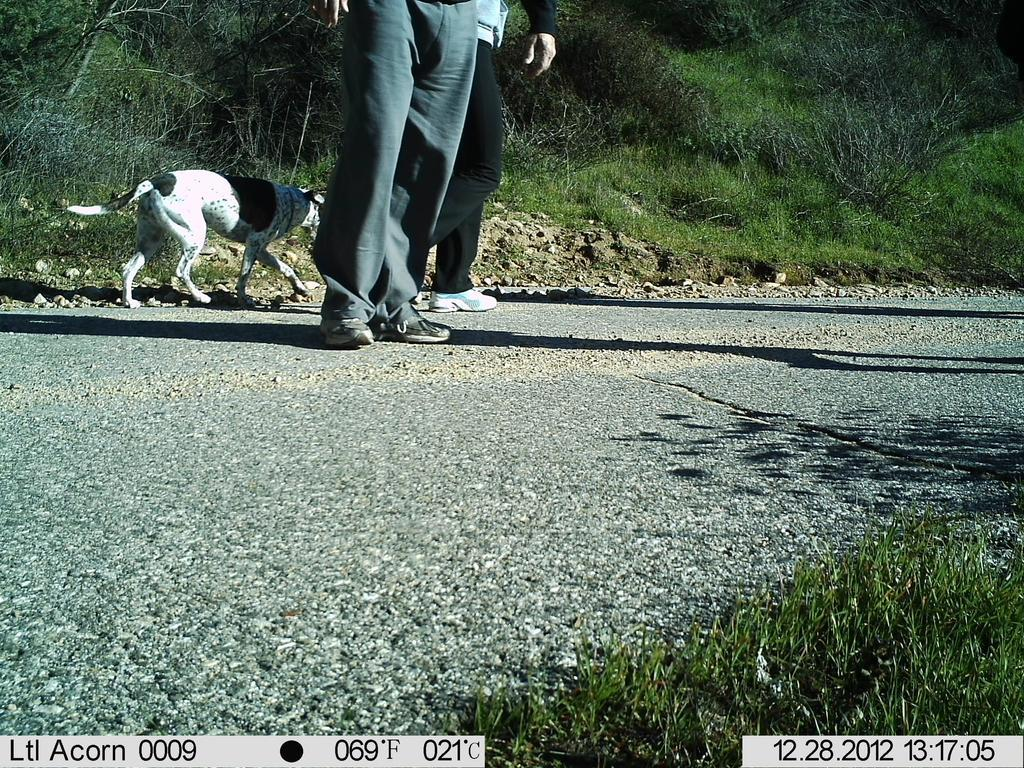dog: (293, 2, 484, 354), (406, 2, 583, 308), (59, 164, 328, 315)
